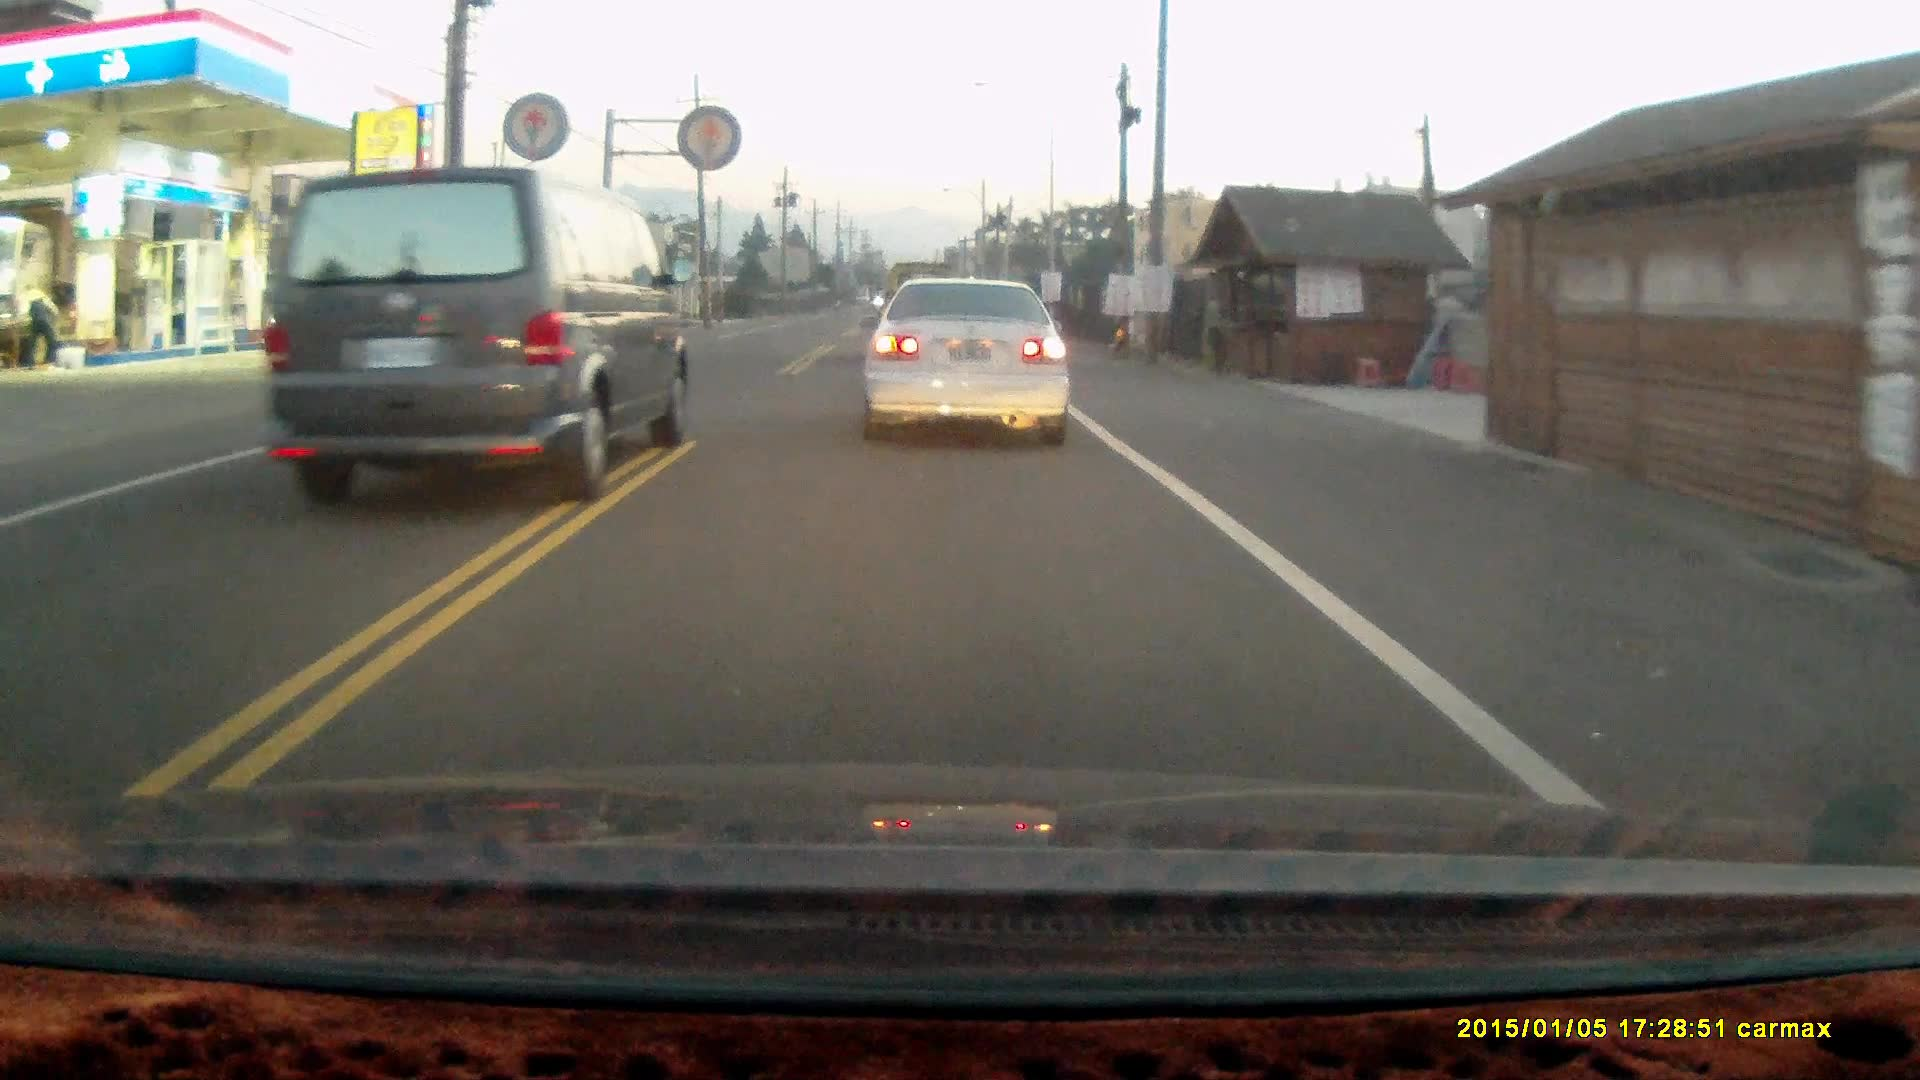pedestrian: (26, 281, 61, 370)
vehicle: (262, 167, 693, 516), (863, 279, 1074, 456), (1, 206, 142, 372)
